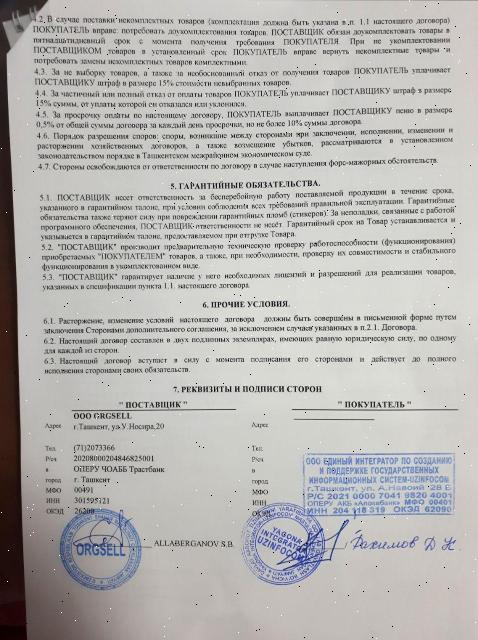stamp: (240, 500, 326, 586), (60, 508, 142, 592)
